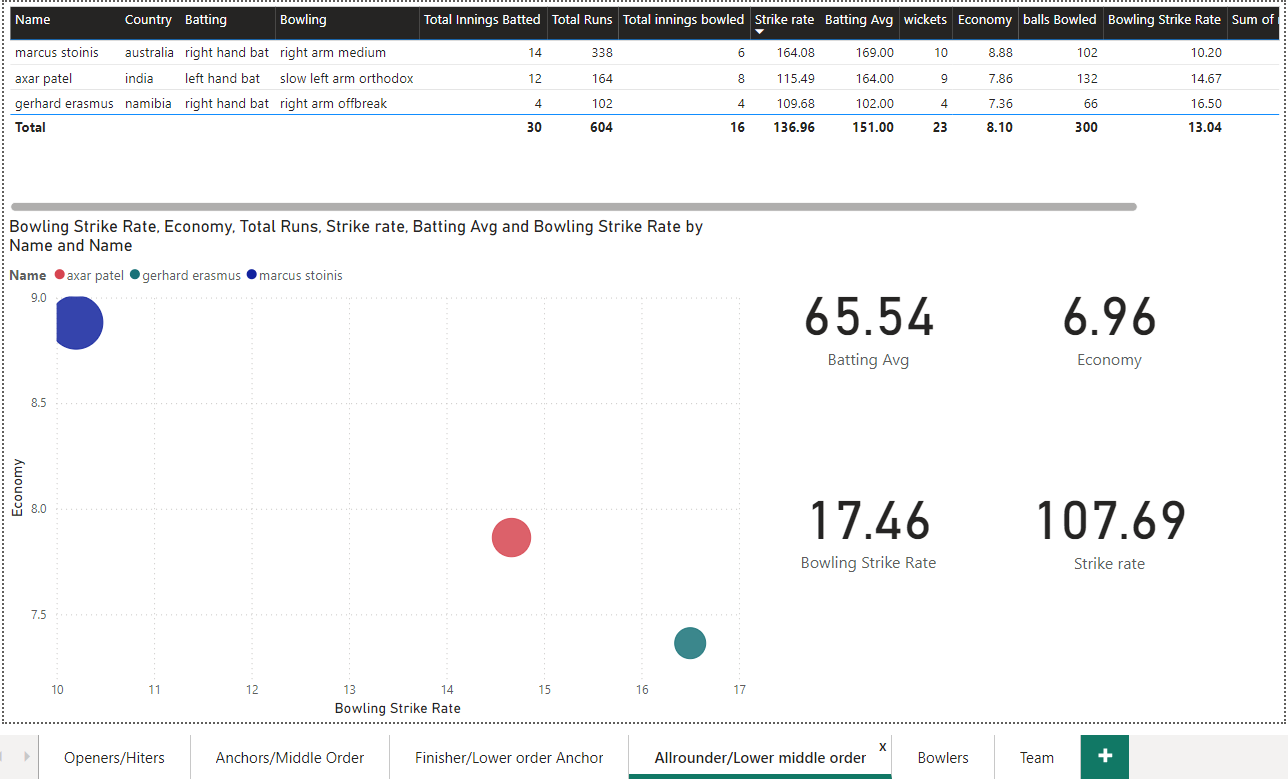

Layout of this report page (visuals, bound fields, positions):
{"tool":"powerbi","page":{"name":"Allrounder/Lower middle order","canvas":[1280,720],"ordinal":3},"visuals":[{"type":"tableEx","fields":{"Values":["players_summary.Name","players_summary.Country","players_summary.Batting","players_summary.Bowling","Key_Measures.Total Innings Batted","Key_Measures.Total Runs","Key_Measures.Total innings bowled","Key_Measures.Strike rate","Key_Measures.Batting Avg","Key_Measures.wickets","Key_Measures.Economy","Key_Measures.balls Bowled"]},"box":[0,0,1280,214.3],"z":0},{"type":"scatterChart","fields":{"Category":["players_summary.Name"],"Series":["players_summary.Name"],"Size":["Key_Measures.Total Runs"],"X":["Key_Measures.Bowling Strike Rate"],"Y":["Key_Measures.Economy"]},"box":[0,214.3,747.1,505.7],"z":1000},{"type":"card","fields":{"Values":["Key_Measures.Batting Avg"]},"box":[747.1,214.3,234.3,208.6],"z":2000},{"type":"card","fields":{"Values":["Key_Measures.Bowling Strike Rate"]},"box":[747.1,422.9,234.3,198.6],"z":3000},{"type":"card","fields":{"Values":["Key_Measures.Economy"]},"box":[981.4,214.3,248.6,208.6],"z":4000},{"type":"card","fields":{"Values":["Key_Measures.Strike rate"]},"box":[981,423,249,199],"z":5000}]}

Visuals, with their boxes on the page's 1280x720 design canvas (x1, y1, x2, y2). These are canvas units, not pixel positions in the 1288x779 screenshot, which may show the page scaled, cropped or inside an application window:
tableEx - players_summary.Name x players_summary.Country: 0,0,1280,214
scatterChart - players_summary.Name x players_summary.Name: 0,214,747,720
card - Key_Measures.Batting Avg: 747,214,981,423
card - Key_Measures.Bowling Strike Rate: 747,423,981,622
card - Key_Measures.Economy: 981,214,1230,423
card - Key_Measures.Strike rate: 981,423,1230,622
